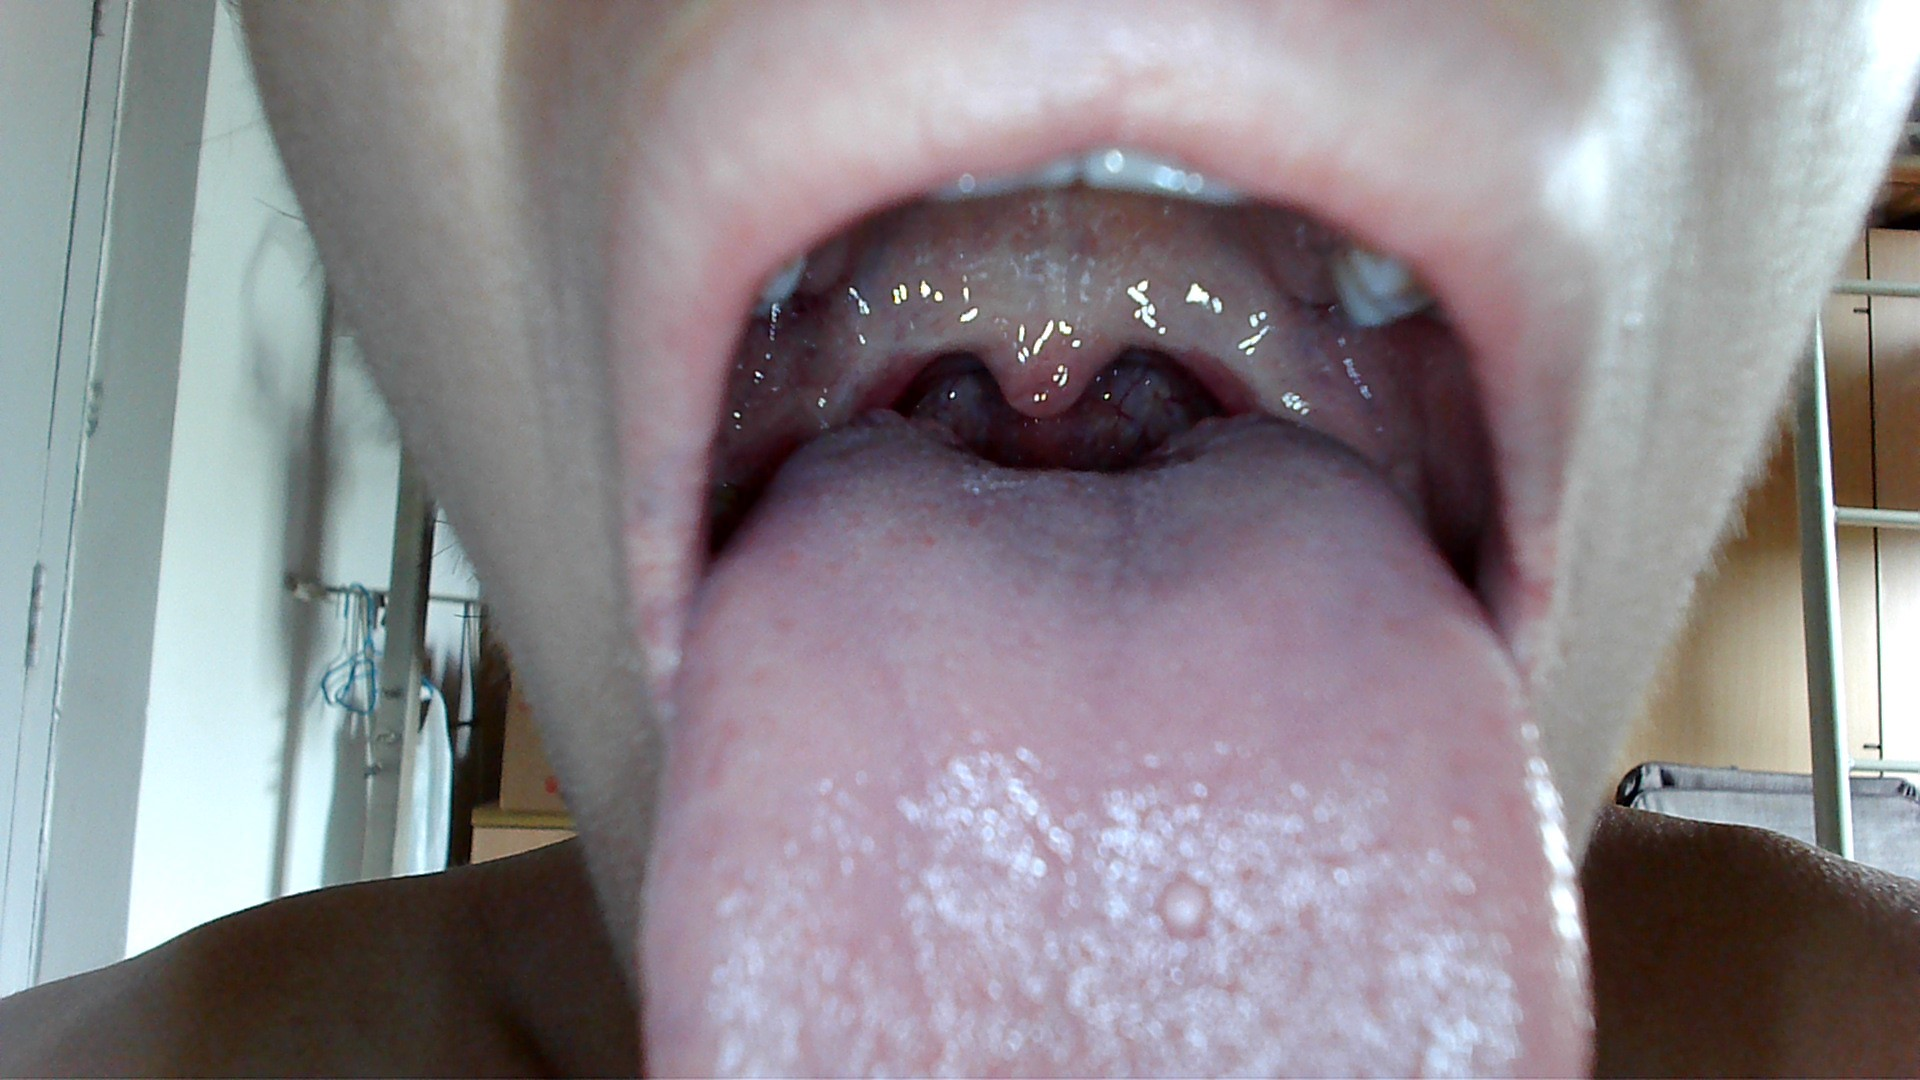throat: (1189, 301, 1317, 411), (774, 332, 918, 425)
